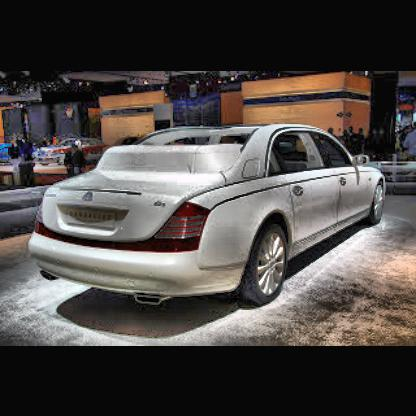Maybach Landaulet Convertible 2012: (30, 120, 387, 311)
